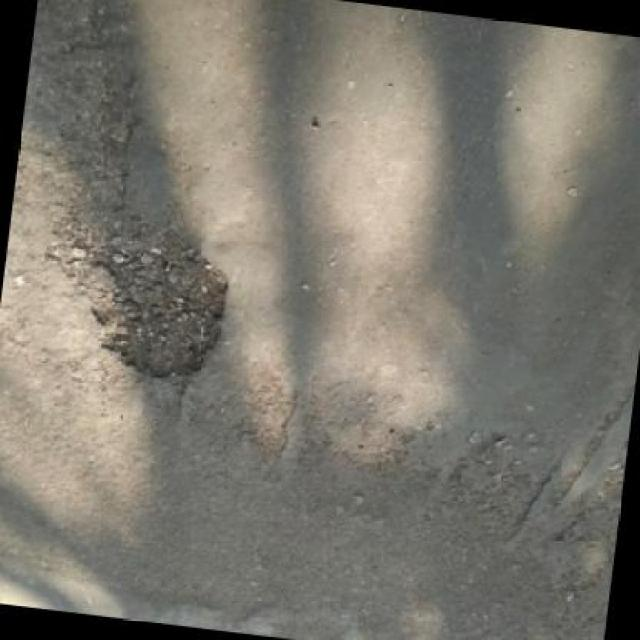pothole1: (62, 222, 242, 392)
